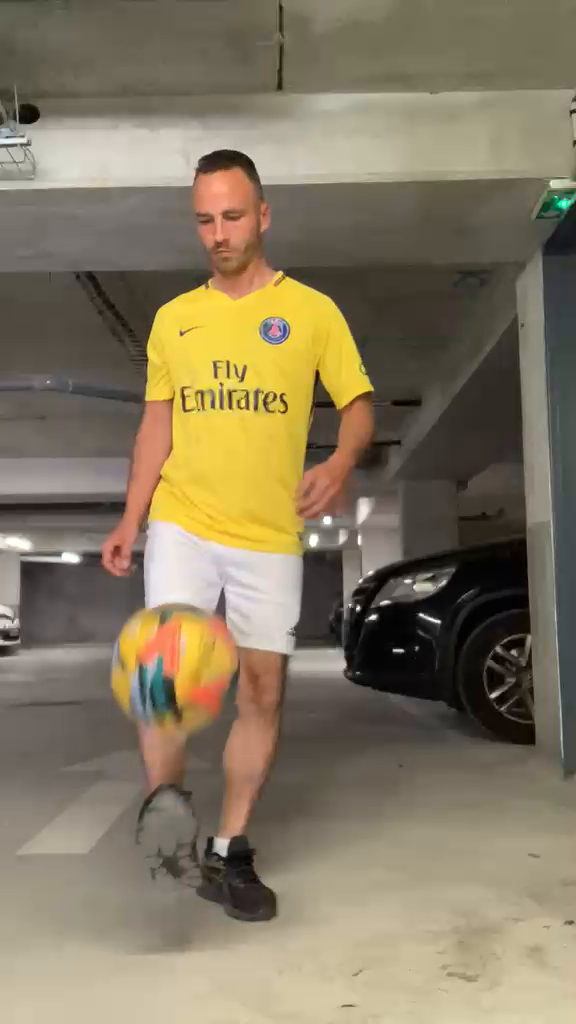ball: (110, 604, 239, 733)
